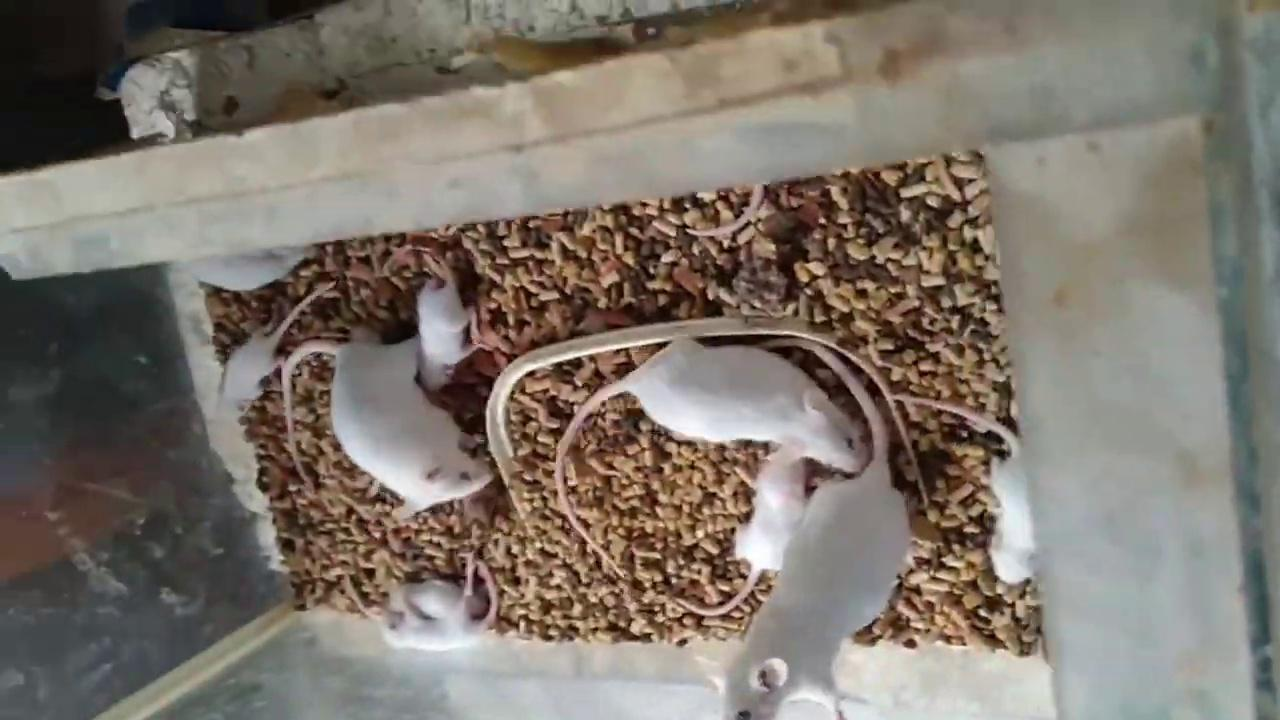rat: (695, 339, 906, 720), (555, 336, 863, 580), (283, 340, 492, 522), (676, 436, 809, 615), (913, 400, 1032, 584), (378, 561, 501, 650), (419, 253, 484, 393)
